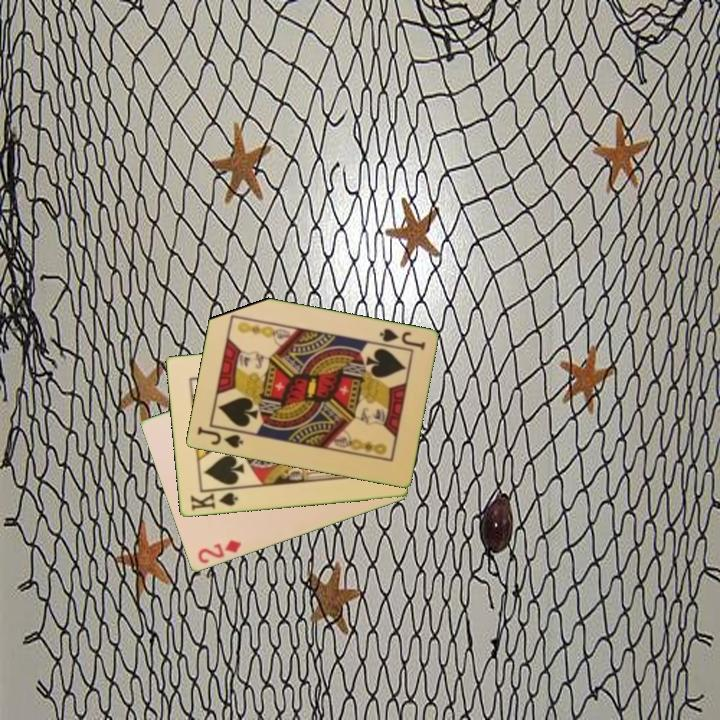2d: (194, 536, 244, 567)
Js: (193, 423, 246, 451), (376, 325, 428, 353)
Ks: (187, 486, 240, 514)
